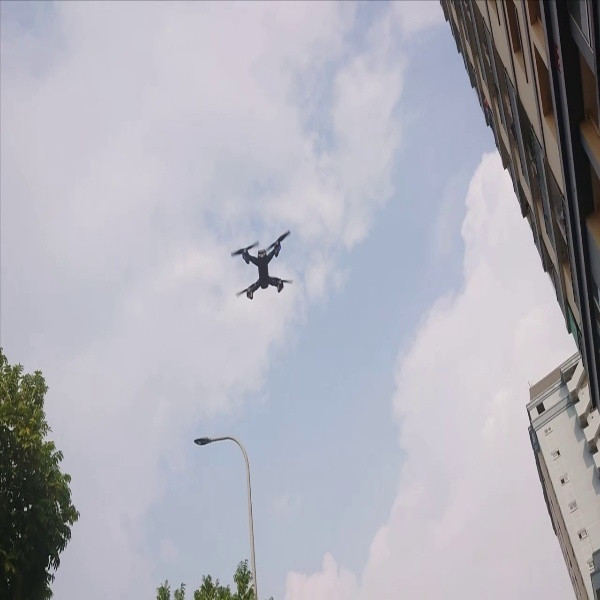drone: (224, 230, 299, 310)
